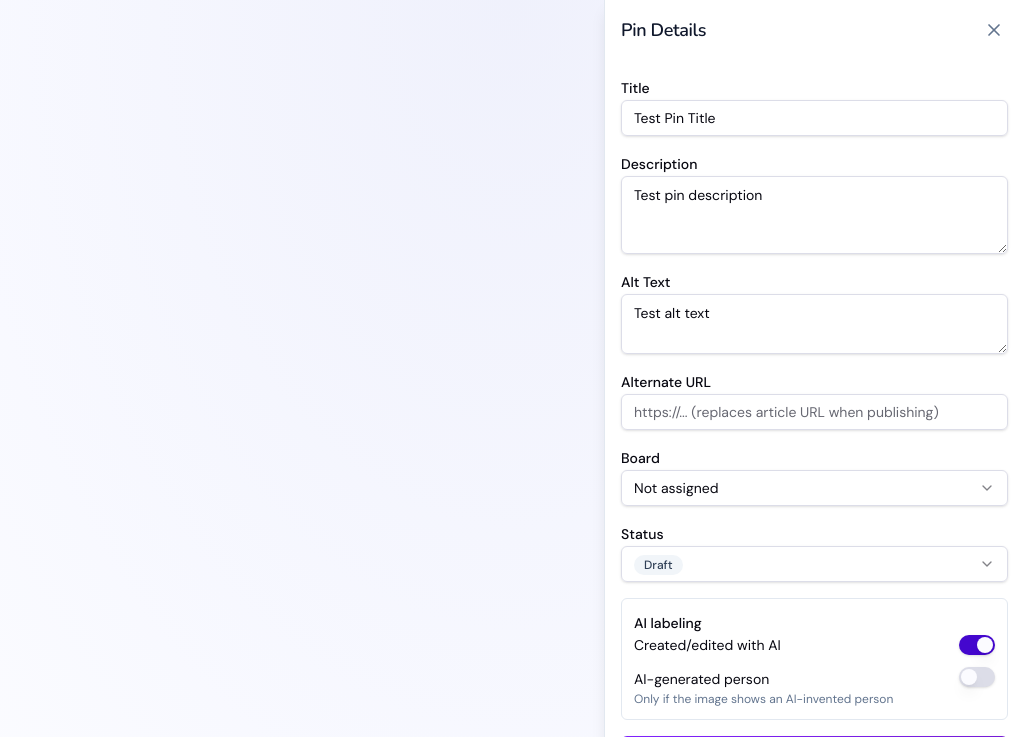
PinSidebar — AI disclosure switches › locks ai_modified on while synthetic_performer is enabled
Click the switch named "ai-generated person" in the row of "AI-generated person".
click(977, 677)  # box [959,667,995,687]
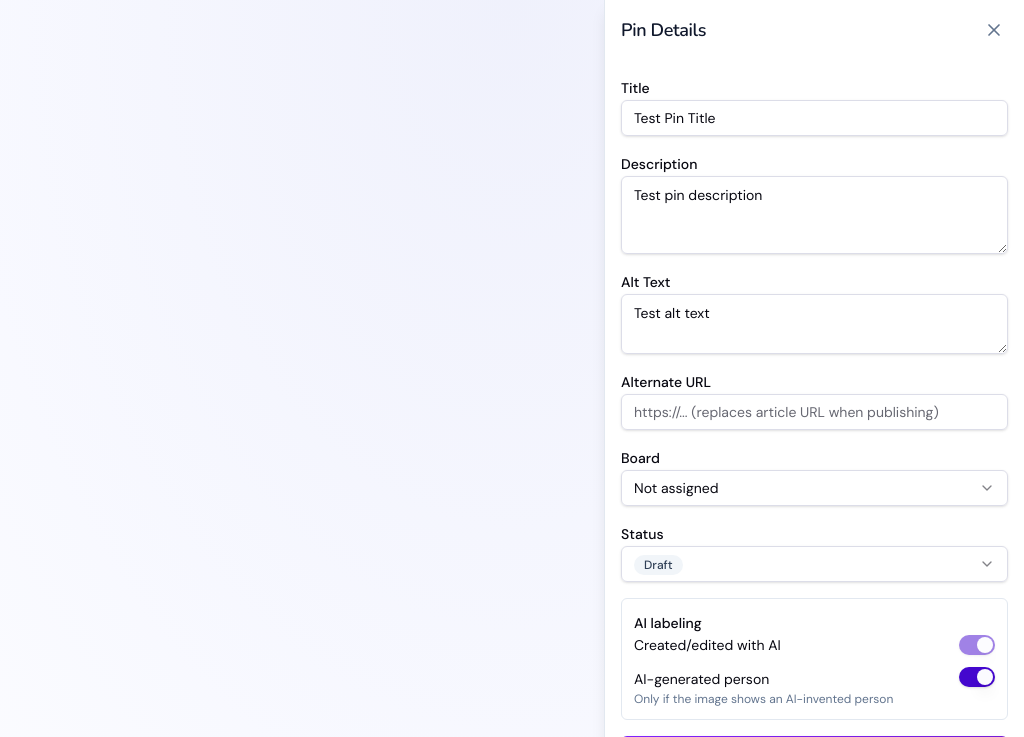
expect the switch named "created/edited with ai" in the row of "Created/edited with AI" is disabled: met, box [959,635,995,655]
Click the switch named "ai-generated person" in the row of "AI-generated person".
click(977, 677)  # box [959,667,995,687]
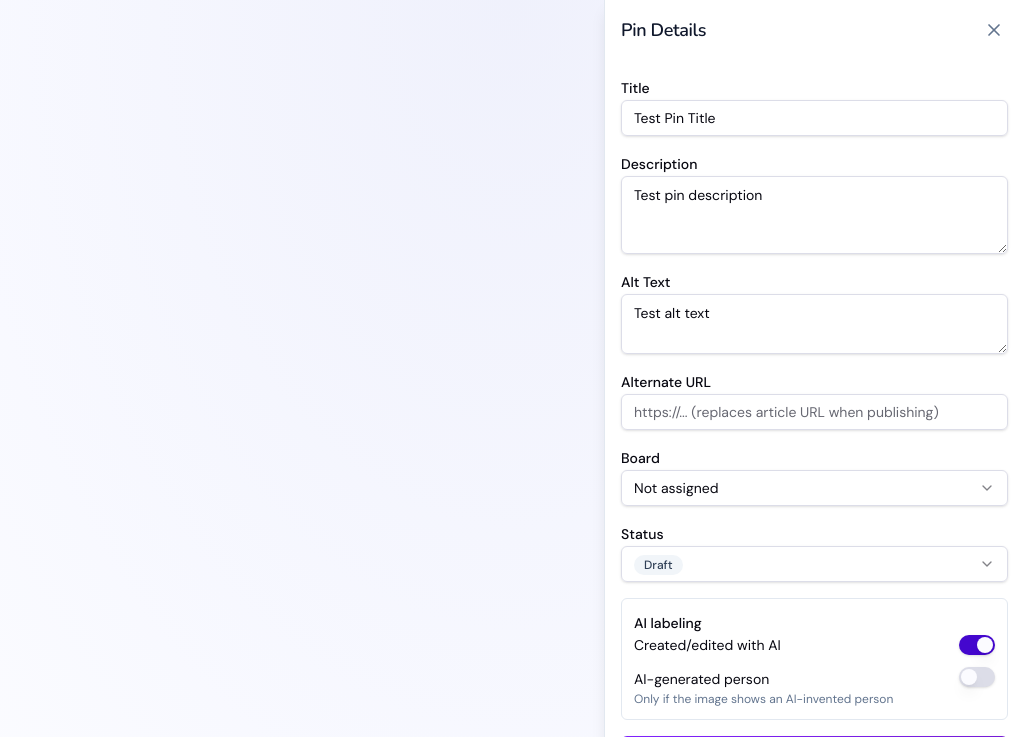
expect the switch named "created/edited with ai" in the row of "Created/edited with AI" is enabled: met, box [959,635,995,655]
